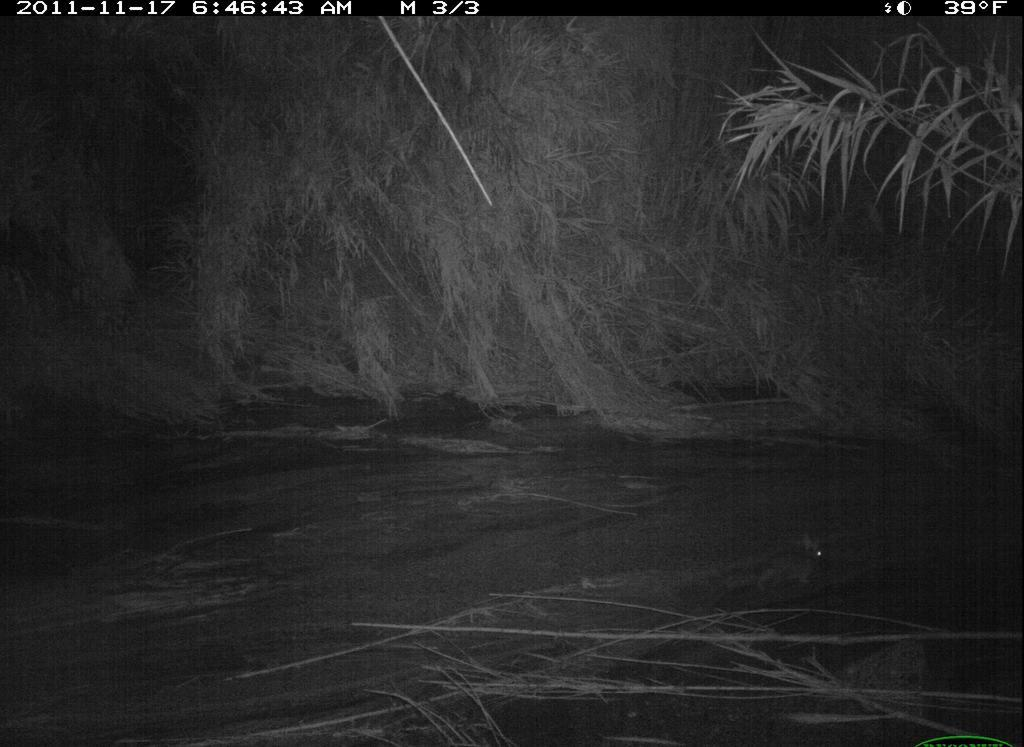rabbit: (743, 524, 844, 606)
